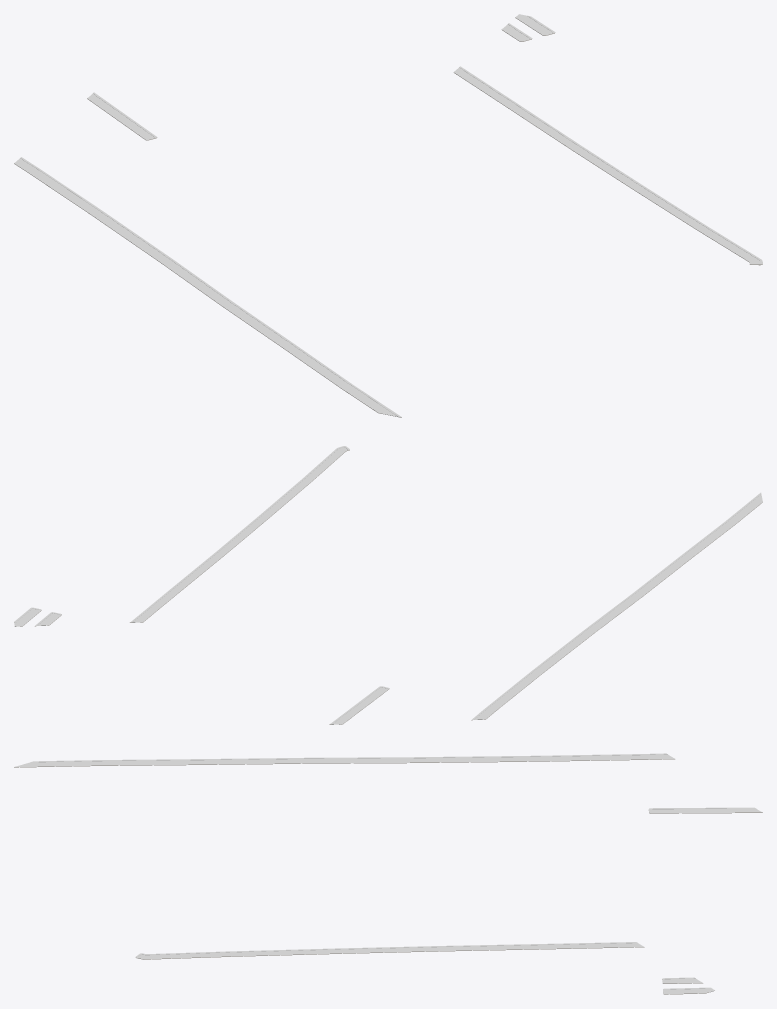
The picture shows the model from 3 angles, top to bottom: view 1: azimuth 30°, elevation 25°; view 2: azimuth 150°, elevation 25°; view 3: azimuth 270°, elevation 25°; orthographic projection. The views are drawn at different scales.
Visible parts, largest first — view 1: col_road, col_sidewalk, col_curb, sidewalk; view 2: col_road, col_sidewalk, col_curb, sidewalk; view 3: col_road, col_sidewalk, sidewalk, col_curb.
Part boxes in pixels (x1,y1,x2,y2): col_road: (15, 14, 760, 416); col_sidewalk: (14, 15, 762, 417); col_curb: (20, 16, 760, 416); sidewalk: (14, 17, 762, 417); col_road: (14, 447, 762, 724); col_sidewalk: (14, 446, 762, 724); col_curb: (14, 447, 762, 724); sidewalk: (20, 450, 762, 724); col_road: (17, 754, 760, 993); col_sidewalk: (14, 753, 762, 994); sidewalk: (14, 759, 762, 994); col_curb: (20, 754, 755, 993).
Size of the model in its own units: 525 by 0.32 by 690.
